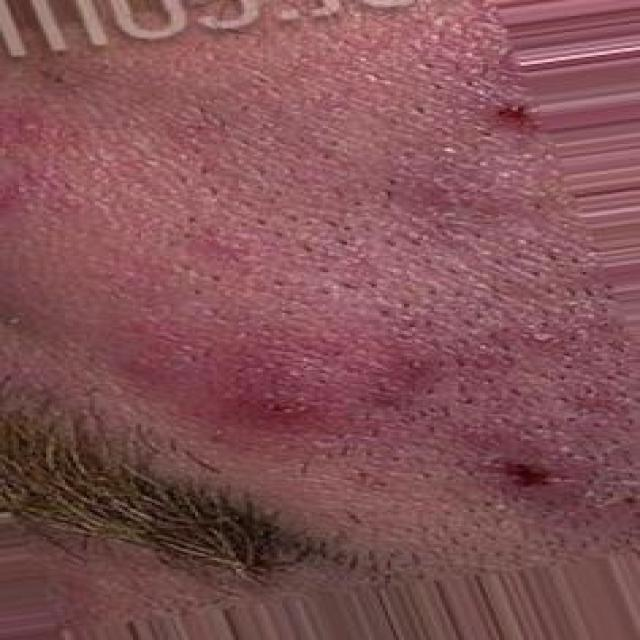Rosacea: (0, 54, 546, 498)
